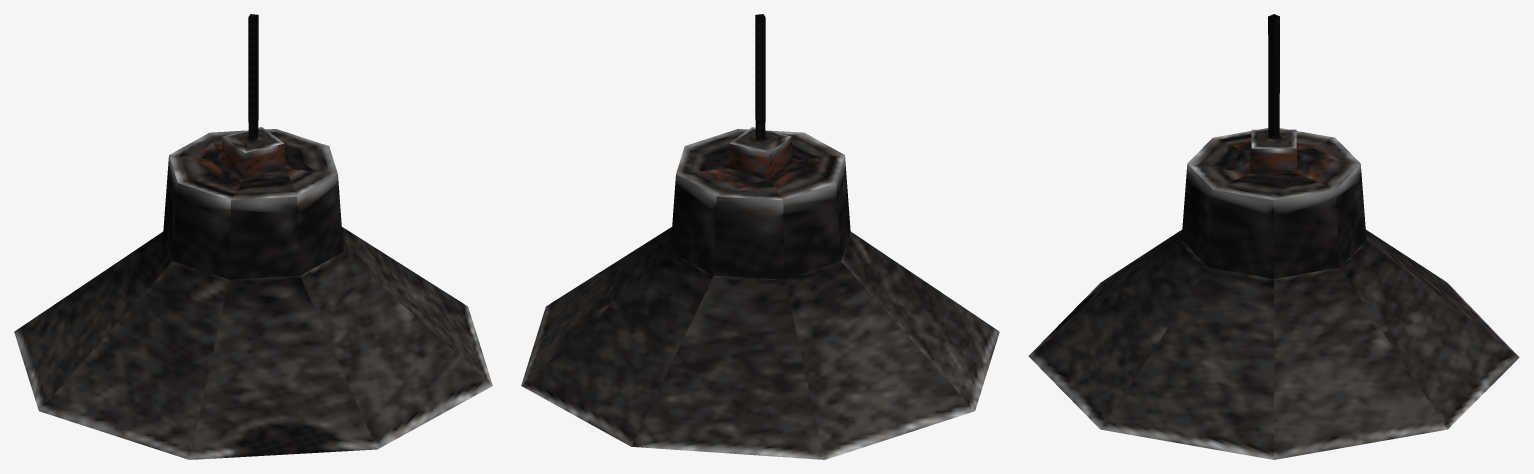
The model's file is ceiling_lamp_lod1.fbx.
3 views of the same model, side by side, from view 1: azimuth 30°, elevation 25°; view 2: azimuth 150°, elevation 25°; view 3: azimuth 270°, elevation 25° (orthographic).
Parts seen in each view (by area): view 1: lamp_head_lod1; view 2: lamp_head_lod1; view 3: lamp_head_lod1.
Boxes of the visible parts, bbox=[...] form: lamp_head_lod1: bbox=[14, 14, 492, 459]; lamp_head_lod1: bbox=[521, 14, 999, 459]; lamp_head_lod1: bbox=[1028, 14, 1519, 459].
Bounding box in the file's own units: 200 × 180 × 200.
